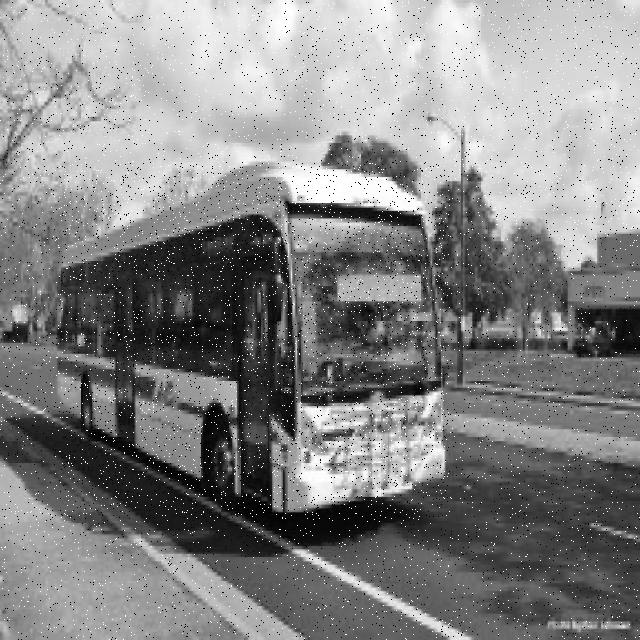Bus: (58, 162, 449, 519)
